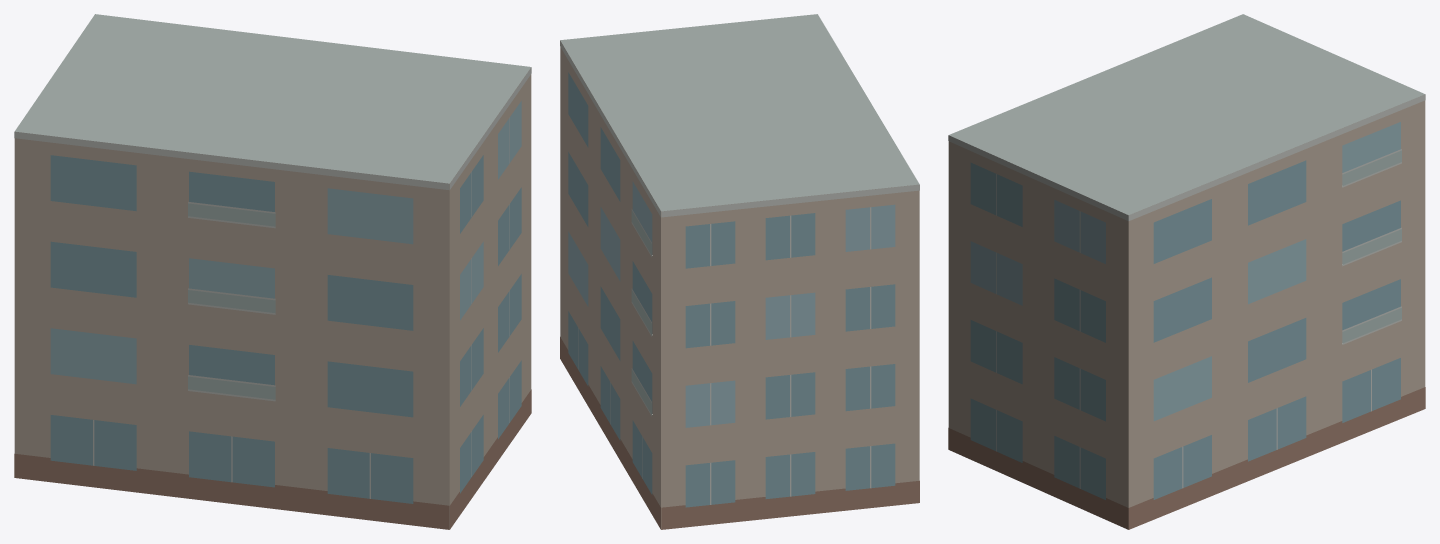
The model's file is survey-upis-32947921.glb.
3 renders of one model, left to right at view 1: azimuth 30°, elevation 25°; view 2: azimuth 150°, elevation 25°; view 3: azimuth 270°, elevation 25°, orthographic. The views are drawn at different scales.
Parts seen in each view (by area): view 1: survey-upis-32947921.tmp; view 2: survey-upis-32947921.tmp; view 3: survey-upis-32947921.tmp.
Boxes of the visible parts, bbox=[...] form: survey-upis-32947921.tmp: bbox=[14, 14, 531, 529]; survey-upis-32947921.tmp: bbox=[560, 14, 919, 529]; survey-upis-32947921.tmp: bbox=[948, 14, 1425, 529].
Bounding box in the file's own units: 17.57 × 12.8 × 17.6.
